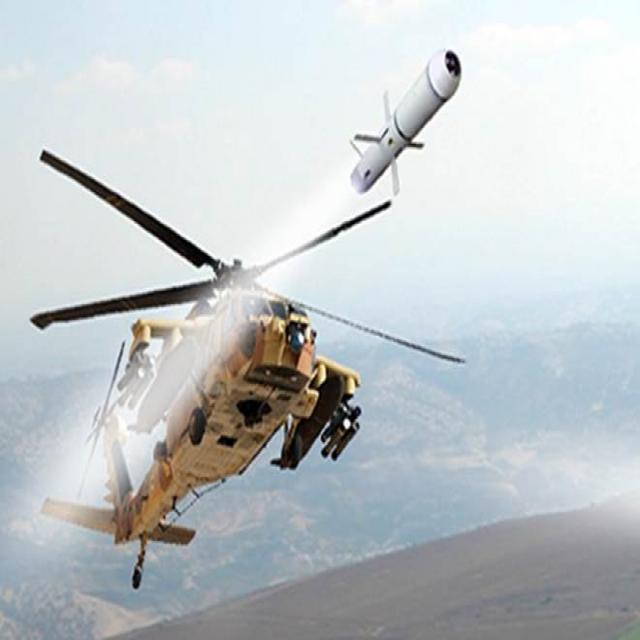Missile: (333, 35, 466, 206)
